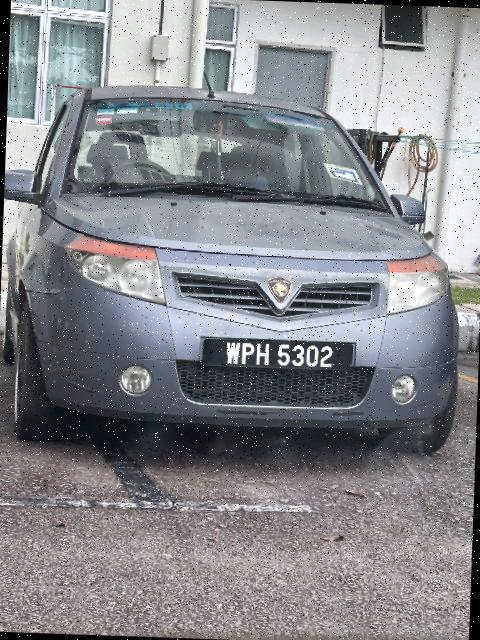License_Plate: (199, 337, 359, 379)
WPH5302: (199, 337, 359, 379)
car: (1, 70, 477, 473)
